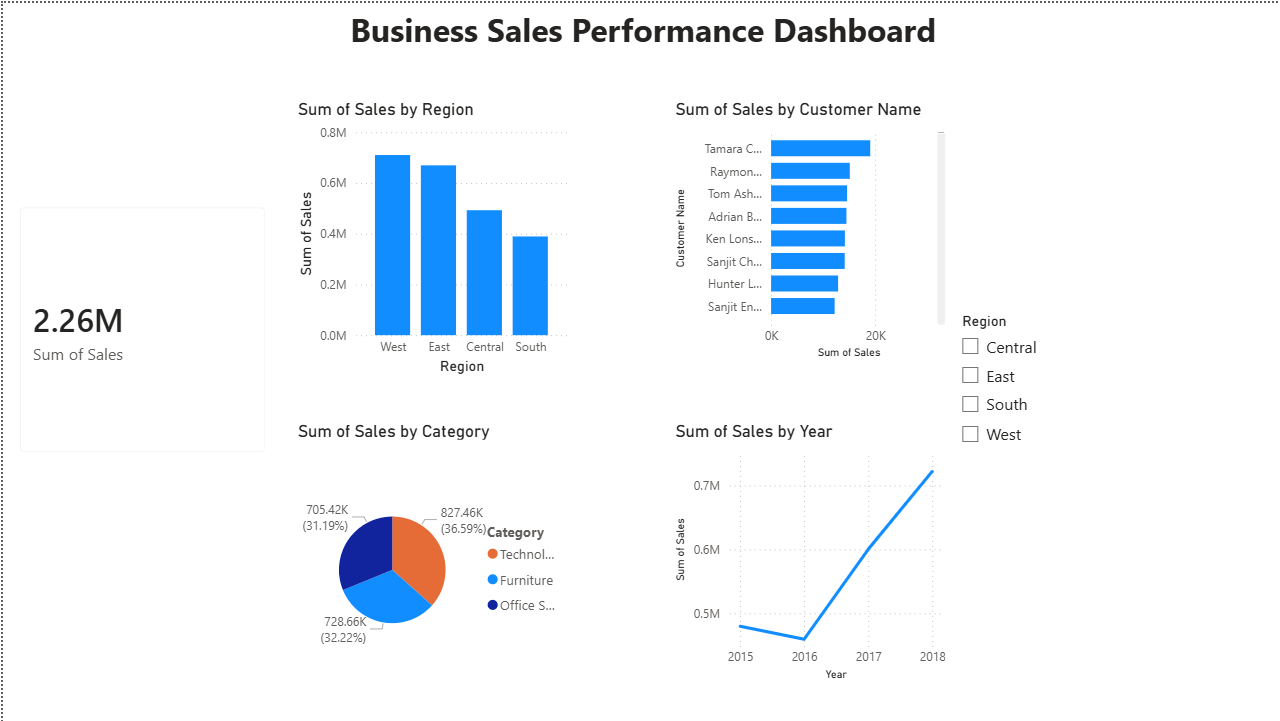

The page's visual inventory and layout, read from the dashboard file:
{"tool":"powerbi","page":{"name":"Page 1","canvas":[1280,720],"ordinal":0},"visuals":[{"type":"cardVisual","fields":{"Data":["Sum(train.Sales)"]},"box":[0,188,279.9,279.9],"z":1},{"type":"columnChart","fields":{"Category":["train.Region"],"Y":["Sum(train.Sales)"]},"box":[289.5,96.1,279.9,279.9],"z":2},{"type":"pieChart","fields":{"Category":["train.Category"],"Y":["Sum(train.Sales)"]},"box":[289.5,417.2,279.9,279.9],"z":3},{"type":"barChart","fields":{"Category":["train.Customer Name"],"Y":["Sum(train.Sales)"]},"box":[666.9,96.1,279.9,264.8],"z":4},{"type":"lineChart","fields":{"Category":["train.Order Date.Variation.Date Hierarchy.Year","train.Order Date.Variation.Date Hierarchy.Quarter","train.Order Date.Variation.Date Hierarchy.Month","train.Order Date.Variation.Date Hierarchy.Day"],"Y":["Sum(train.Sales)"]},"box":[666.9,417.2,279.9,264.8],"z":5},{"type":"textbox","box":[0,0,1280.3,63.1],"z":6},{"type":"textbox","box":[0,468,280,252],"z":8},{"type":"slicer","fields":{"Values":["train.Region"]},"box":[946.8,304.6,333.4,264.8],"z":9}]}

Visuals, with their boxes in screenshot pixels (x1, y1, x2, y2), scaled from the page's 1280x720 canvas onto the 1280x721 screenshot:
cardVisual - Sum(train.Sales): [0,188,280,469]
columnChart - train.Region x Sum(train.Sales): [290,96,569,377]
pieChart - train.Category x Sum(train.Sales): [290,418,569,698]
barChart - train.Customer Name x Sum(train.Sales): [667,96,947,361]
lineChart - train.Order Date.Variation.Date Hierarchy.Year x train.Order Date.Variation.Date Hierarchy.Quarter: [667,418,947,683]
textbox: [0,0,1279,63]
textbox: [0,469,280,720]
slicer - train.Region: [947,305,1279,570]
